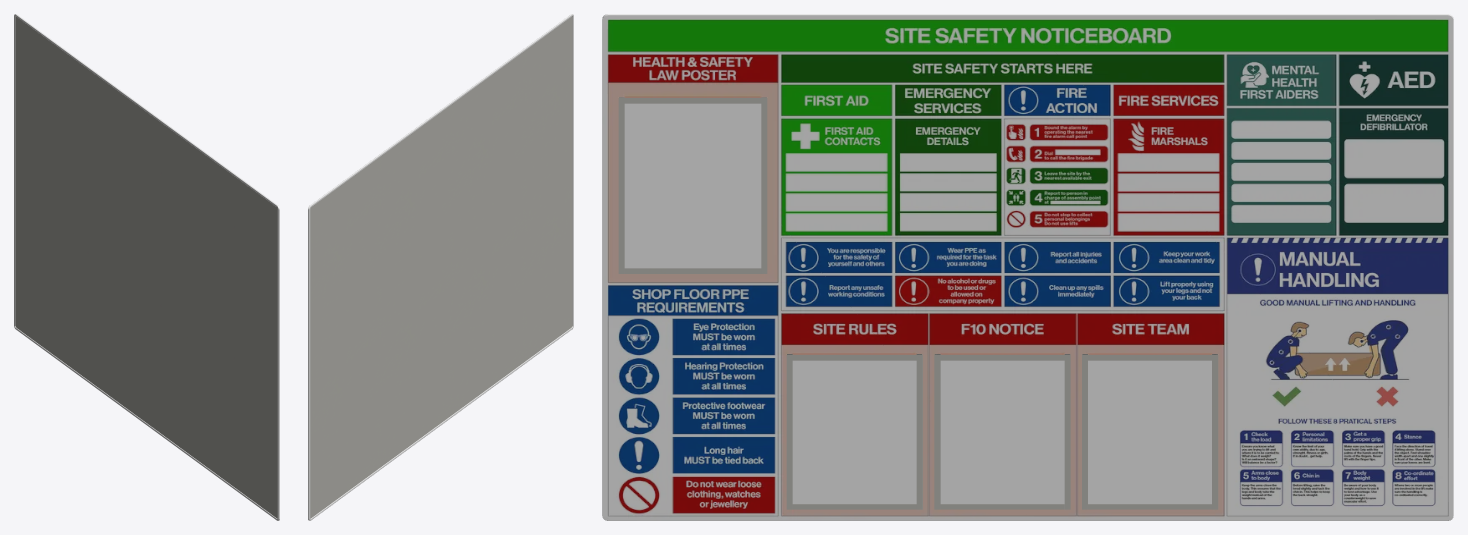
The model's file is safetyBoard_hseInformation_a01.glb.
3 views of the same model, side by side, from view 1: azimuth 30°, elevation 25°; view 2: azimuth 150°, elevation 25°; view 3: azimuth 270°, elevation 25° (orthographic). The views are drawn at different scales.
Visible parts, largest first — view 1: body_01_mesh_00; view 2: body_01_mesh_00; view 3: body_01_mesh_00, glass_01_mesh_00.
Part boxes in pixels (x1=…): body_01_mesh_00: x1=14, y1=14, x2=279, y2=520; body_01_mesh_00: x1=308, y1=14, x2=573, y2=520; body_01_mesh_00: x1=602, y1=14, x2=1453, y2=520; glass_01_mesh_00: x1=624, y1=103, x2=1211, y2=503.
Size of the model in its own units: 0.0113 by 1.35 by 2.06.
4 materials, 3 textured.
